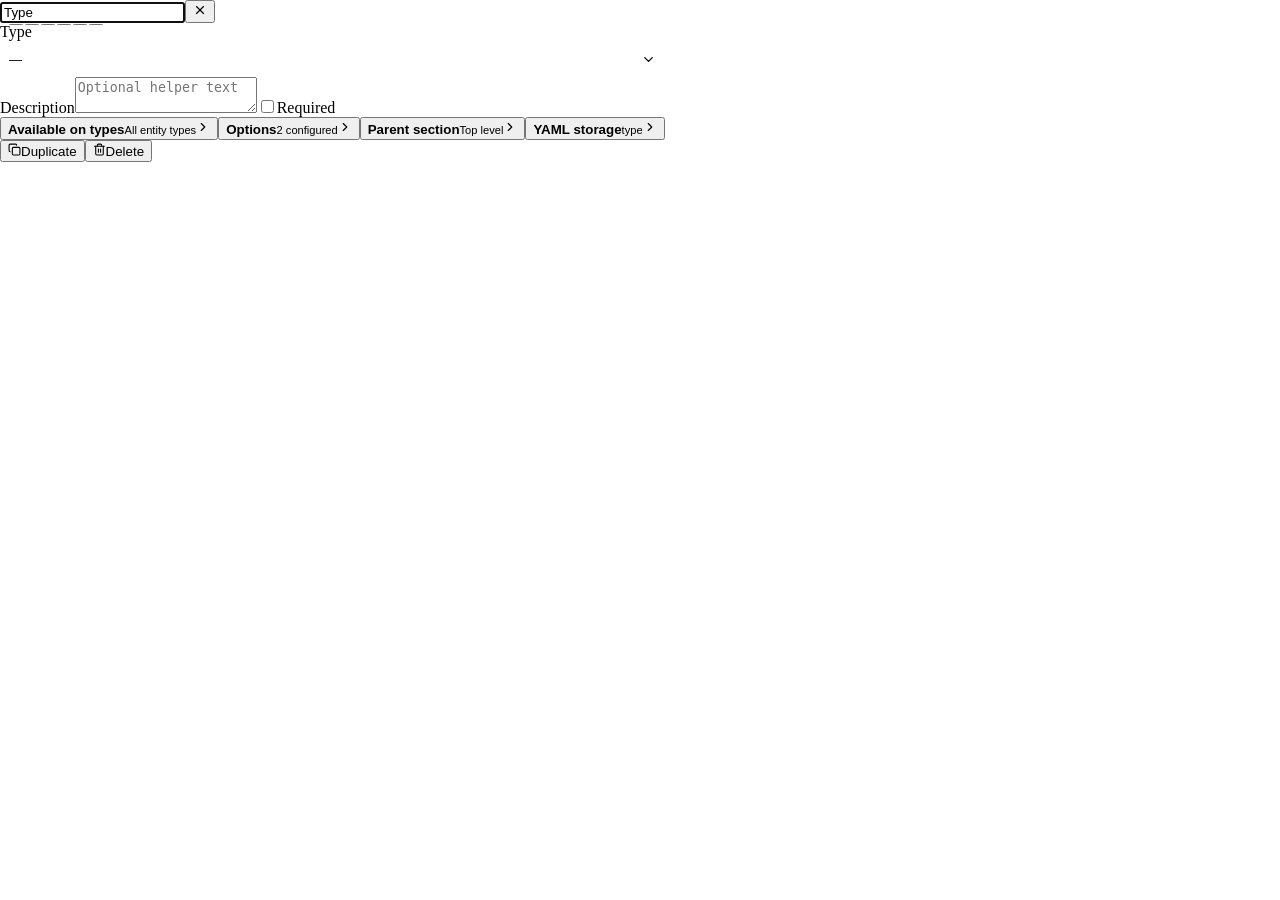
PropertyEditorPopover › shows resolved options for the type property and edits them
Later steps or results of the test are not shown.
Click the button "Options2 configured".
click(289, 128)  # box [218, 117, 360, 140]
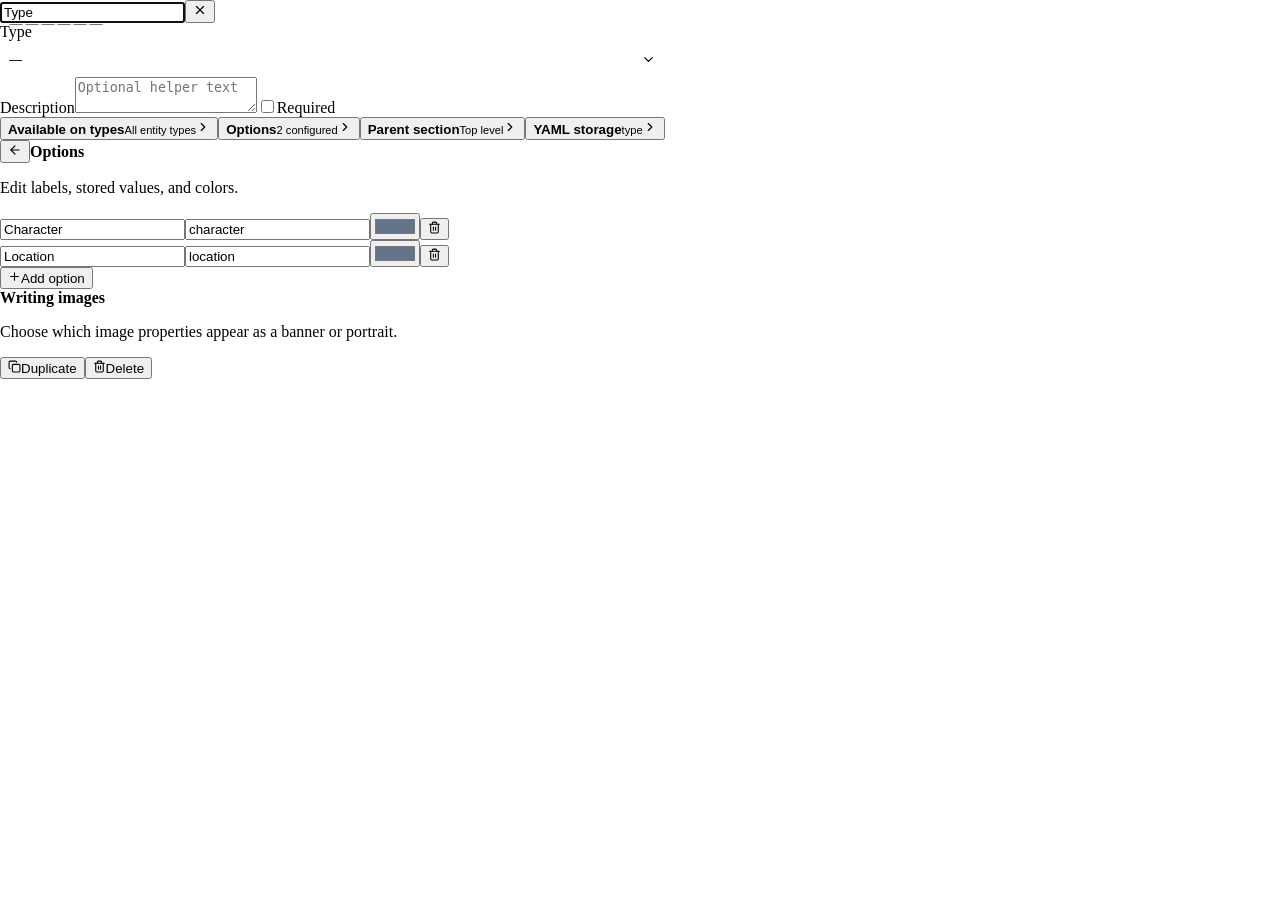
Expected: the field showing "Character" holds "Character", [0, 219, 185, 240]
Expected: the field showing "Location" is shown, [0, 246, 185, 267]
